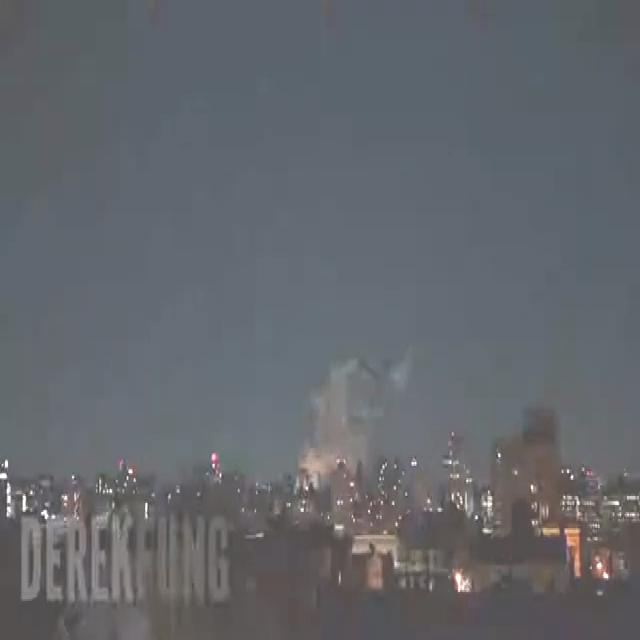smoke: (299, 348, 411, 480)
